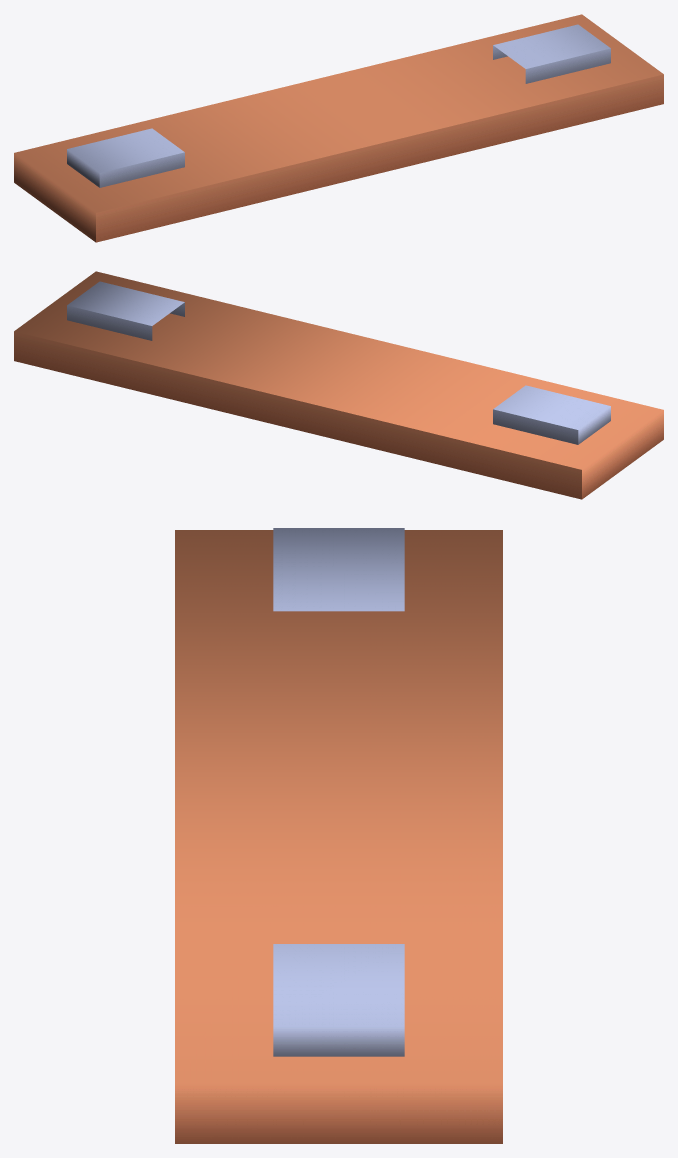
The model's file is spline-segment.glb.
3 views of the same model, one above another, from view 1: azimuth 30°, elevation 25°; view 2: azimuth 150°, elevation 25°; view 3: azimuth 270°, elevation 25° (orthographic). The views are drawn at different scales.
Parts seen in each view (by area): view 1: spline-segment; view 2: spline-segment; view 3: spline-segment.
Boxes of the visible parts, bbox=[...] form: spline-segment: bbox=[14, 14, 663, 242]; spline-segment: bbox=[14, 271, 663, 499]; spline-segment: bbox=[175, 528, 502, 1143].
Bounding box in the file's own units: 1 × 0.075 × 0.25.
1 material, 1 textured.
